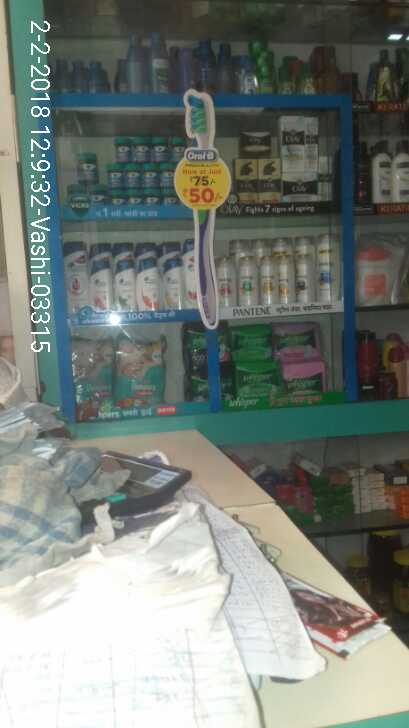beauty: (133, 259, 161, 313), (280, 116, 306, 170), (257, 157, 283, 201), (115, 260, 136, 314), (232, 160, 257, 205), (281, 172, 320, 200), (90, 260, 111, 311), (163, 259, 183, 311), (240, 131, 273, 153), (306, 117, 319, 170)
pharmacy: (62, 336, 114, 413), (114, 338, 166, 409), (105, 162, 178, 189), (272, 324, 321, 362), (230, 326, 278, 361), (276, 361, 328, 393), (232, 363, 279, 397), (75, 147, 98, 186), (113, 132, 131, 169), (128, 135, 150, 163), (154, 135, 167, 162)
